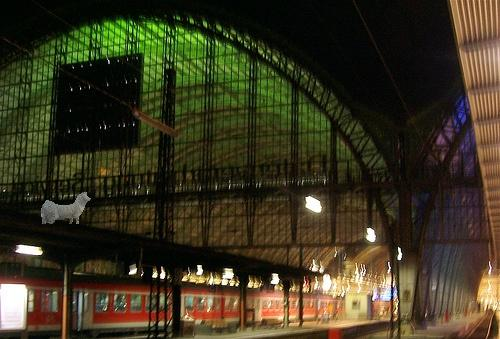tampered: (42, 193, 91, 224)
